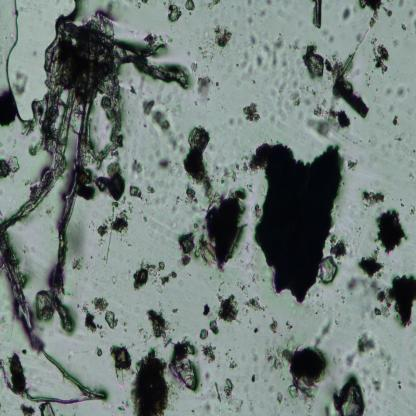Air bubble: (7, 0, 81, 131)
Background material: (178, 188, 247, 272), (265, 324, 327, 410), (131, 350, 172, 416), (365, 278, 416, 329), (328, 58, 370, 119), (188, 128, 216, 206), (79, 161, 127, 205), (146, 98, 180, 158), (166, 343, 202, 394), (330, 374, 371, 416), (372, 209, 408, 253), (132, 258, 178, 291), (94, 205, 127, 250), (214, 285, 246, 324), (342, 27, 370, 71), (147, 303, 174, 342), (359, 245, 386, 280), (269, 76, 287, 128), (10, 350, 28, 401), (109, 344, 133, 382), (94, 295, 118, 332), (221, 154, 253, 181), (371, 36, 393, 75), (214, 380, 240, 412), (309, 102, 333, 136), (304, 44, 327, 78), (0, 88, 19, 129), (358, 185, 387, 211), (311, 317, 335, 346), (259, 345, 283, 373), (319, 255, 339, 287), (0, 151, 20, 180), (362, 0, 383, 26), (347, 223, 363, 257), (331, 233, 348, 263), (283, 37, 300, 67), (353, 330, 375, 353), (244, 291, 263, 317), (254, 45, 272, 72), (330, 107, 351, 130), (377, 346, 392, 378), (241, 101, 261, 125), (221, 348, 240, 372), (167, 3, 182, 32), (196, 78, 214, 102), (214, 25, 232, 49), (312, 0, 325, 31), (240, 50, 253, 81), (200, 40, 216, 64), (86, 312, 102, 336), (272, 36, 284, 67), (128, 184, 144, 203), (348, 276, 364, 293), (202, 346, 217, 364), (201, 298, 213, 320), (283, 381, 297, 399), (211, 317, 222, 339), (343, 352, 359, 366), (268, 319, 283, 333), (379, 140, 392, 156), (156, 156, 173, 168), (290, 91, 302, 108), (371, 375, 381, 395), (119, 398, 131, 414), (396, 83, 408, 99), (307, 84, 318, 101), (135, 0, 149, 13), (184, 0, 196, 15), (348, 154, 358, 172), (274, 389, 284, 406), (132, 160, 143, 175), (340, 6, 351, 21), (248, 32, 258, 48), (39, 405, 53, 416), (228, 113, 236, 131), (250, 368, 258, 386), (199, 326, 209, 340), (254, 203, 262, 220), (408, 202, 416, 219), (365, 70, 373, 87), (383, 6, 394, 17), (108, 274, 118, 286), (76, 258, 84, 273), (92, 347, 104, 356), (24, 407, 34, 416), (392, 38, 400, 49), (246, 14, 253, 26), (394, 132, 402, 142), (392, 117, 400, 127), (210, 0, 222, 6), (147, 184, 154, 194), (399, 201, 407, 209), (388, 105, 396, 113), (388, 86, 394, 96), (401, 24, 408, 32), (397, 0, 405, 7), (412, 20, 416, 34), (409, 171, 415, 180), (266, 0, 275, 6), (371, 137, 377, 145), (214, 81, 220, 88), (142, 214, 147, 222), (410, 8, 414, 18), (262, 12, 267, 19), (373, 97, 377, 105), (413, 147, 416, 156), (368, 136, 371, 143), (376, 88, 380, 92)
Cellulose filter fibre: (34, 99, 92, 332), (40, 14, 189, 92), (3, 85, 80, 225), (25, 342, 108, 406), (1, 226, 44, 348), (93, 70, 127, 162)
Fragment: (252, 142, 346, 307)
